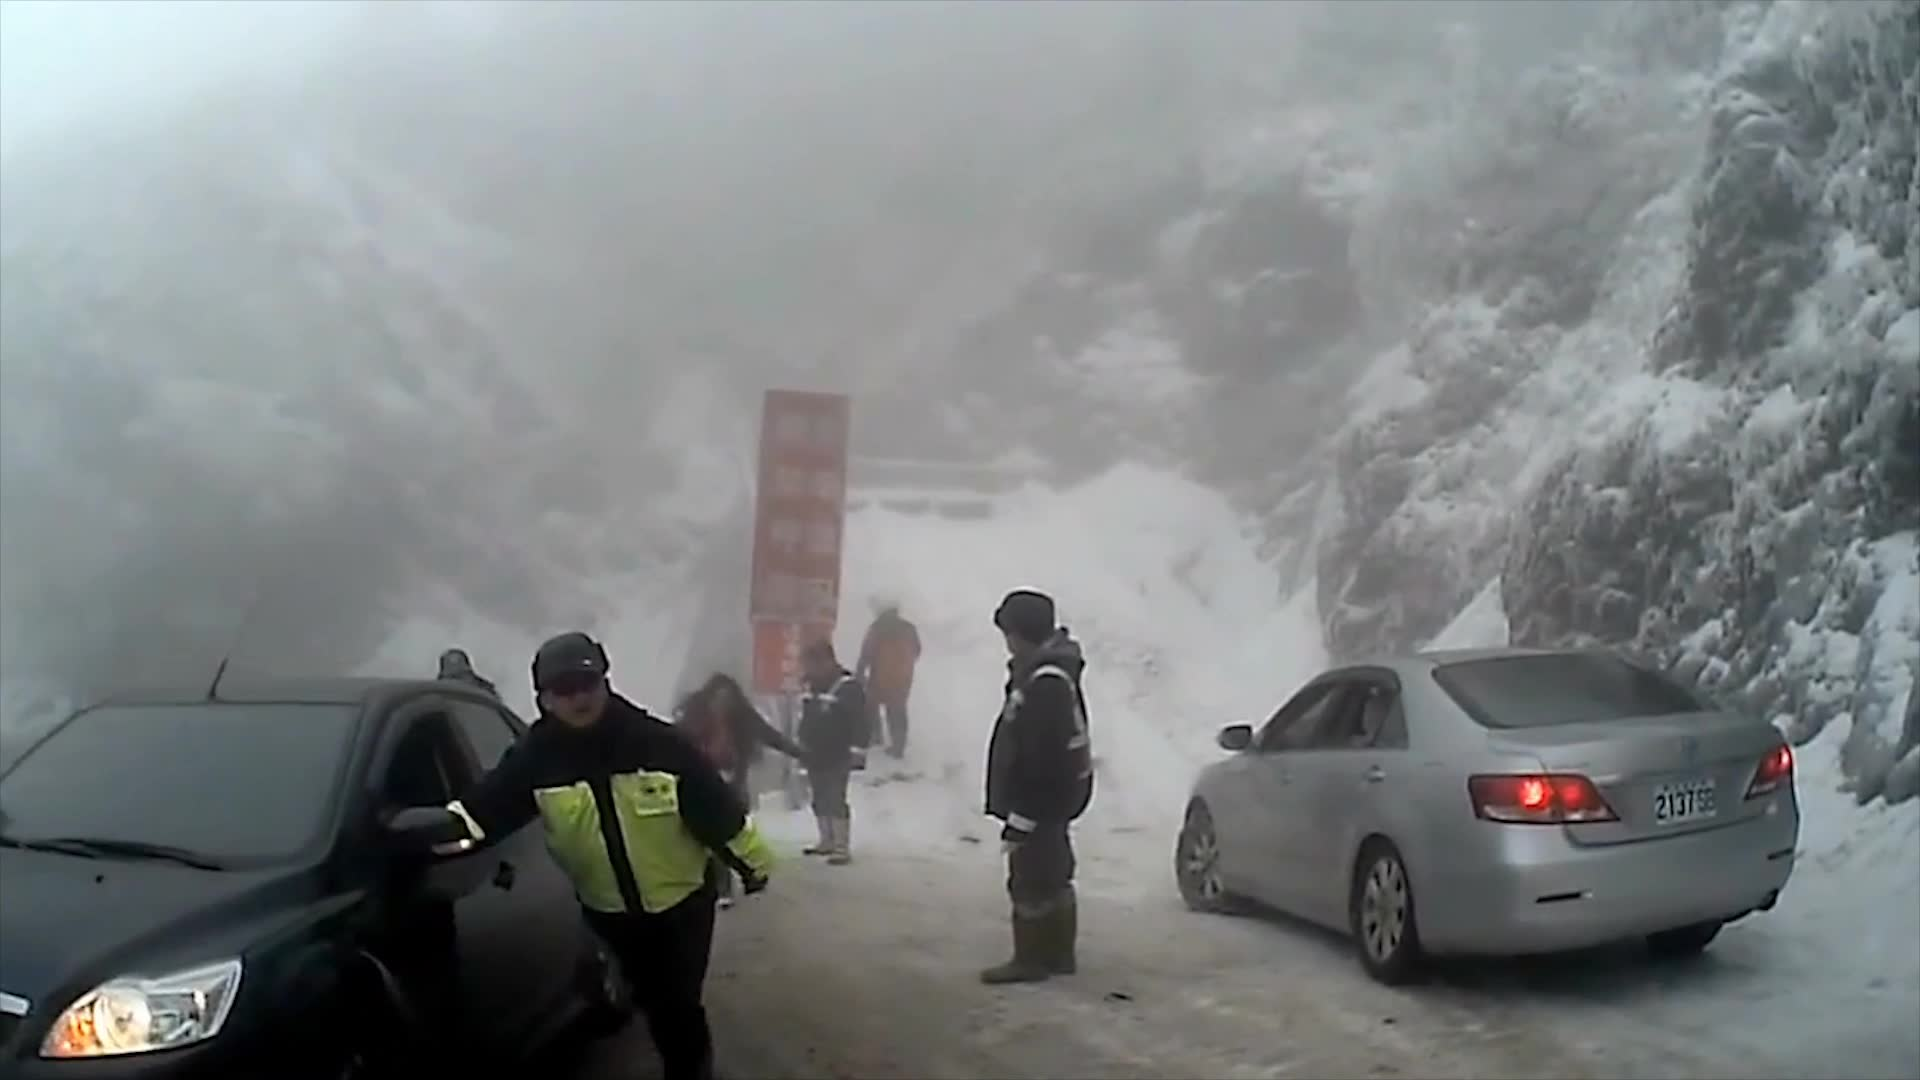pedestrian: (410, 637, 776, 1080), (959, 585, 1091, 983), (670, 671, 818, 913), (791, 637, 867, 863), (845, 585, 919, 760)
vehicle: (0, 673, 656, 1080), (1161, 639, 1796, 983)
